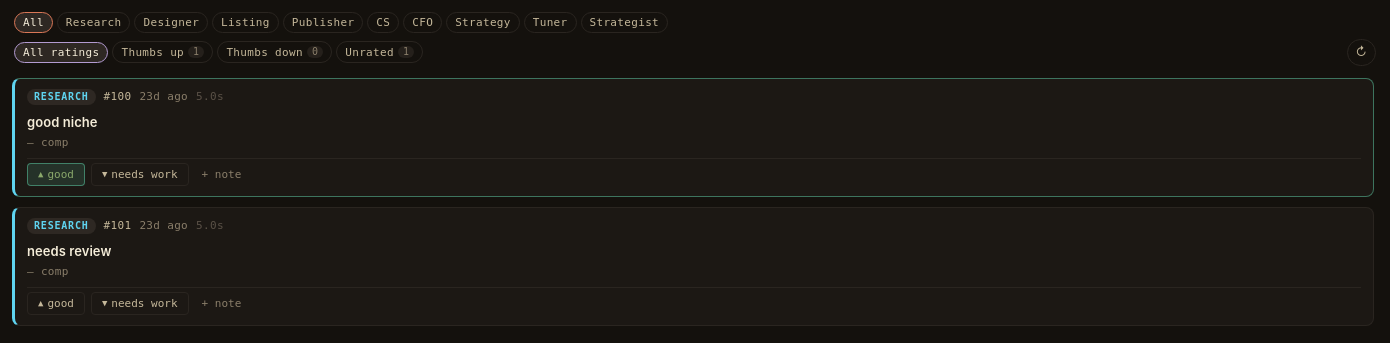
ActivityFeed › filters by rating chip
Expected: the text "good niche" is shown, [27,114,98,130]
Expected: the text "needs review" is shown, [27,243,111,259]
Click the button "Unrated 1": [380, 52] box [336,41,423,63]
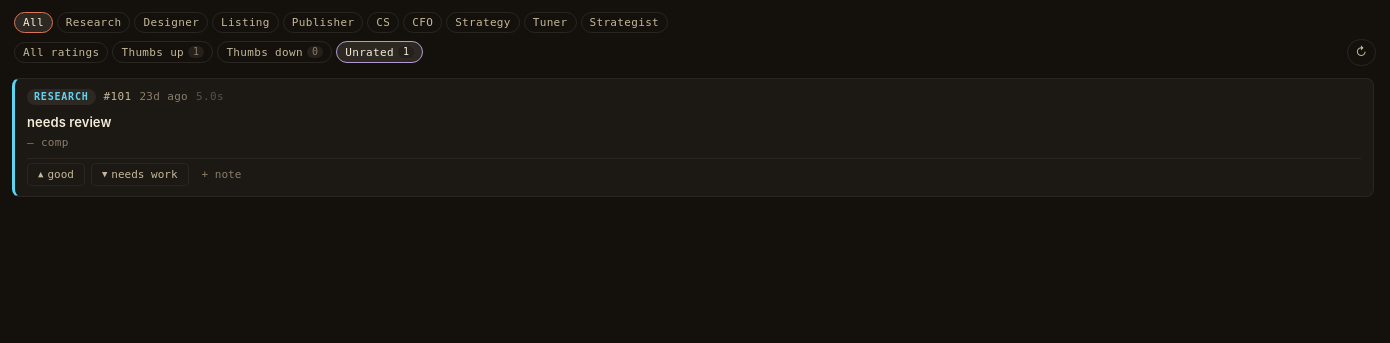
Expected: the text "needs review" is shown, [27,114,111,130]
Expected: the text "good niche" is gone
